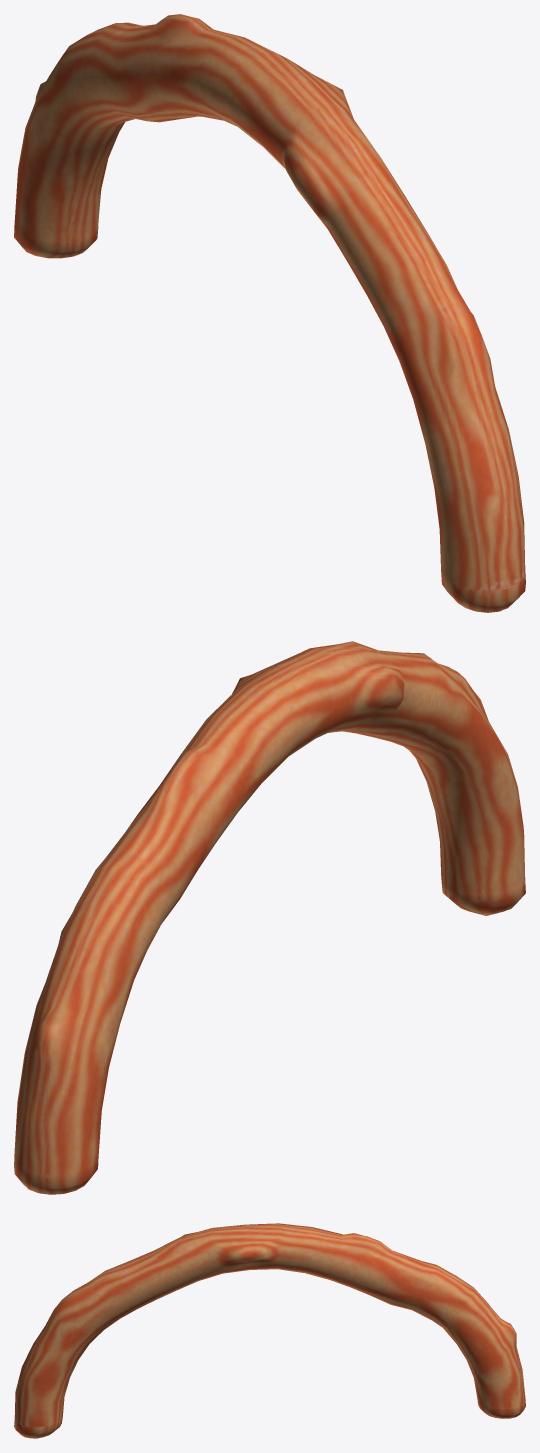
File: Tree.fbx_Branch_Long.fbx
3 views of the same model, one above another, from view 1: azimuth 30°, elevation 25°; view 2: azimuth 150°, elevation 25°; view 3: azimuth 270°, elevation 25° (orthographic). The views are drawn at different scales.
Visible parts, largest first — view 1: Branch_Long; view 2: Branch_Long; view 3: Branch_Long.
Part boxes in pixels (x1,y1,x2,y2): Branch_Long: (14,14,525,612); Branch_Long: (14,641,525,1194); Branch_Long: (14,1223,525,1438).
Size of the model in its own units: 439 by 1606 by 3490.
